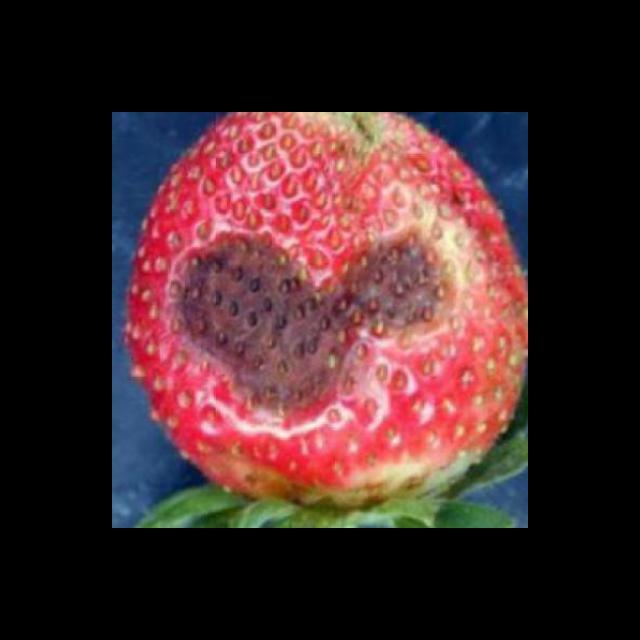Anthracnose Fruit Rot: (164, 222, 466, 434)
